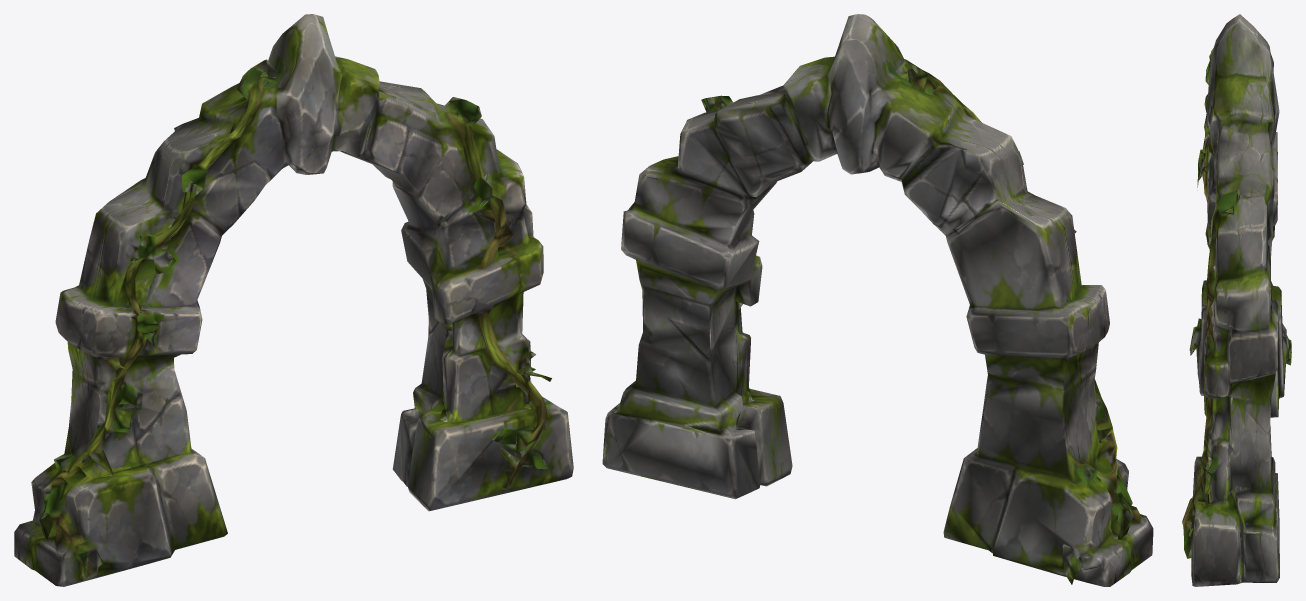
The model's file is arco_piedra_2.glb.
3 views of the same model, side by side, from view 1: azimuth 30°, elevation 25°; view 2: azimuth 150°, elevation 25°; view 3: azimuth 270°, elevation 25° (orthographic). The views are drawn at different scales.
Parts seen in each view (by area): view 1: arco_piedra_2; view 2: arco_piedra_2; view 3: arco_piedra_2.
Boxes of the visible parts, <box> form: arco_piedra_2: <box>14,14,573,586</box>; arco_piedra_2: <box>602,14,1153,586</box>; arco_piedra_2: <box>1182,14,1291,586</box>.
Bounding box in the file's own units: 8 × 7.5 × 1.6.
1 material, 1 textured.
